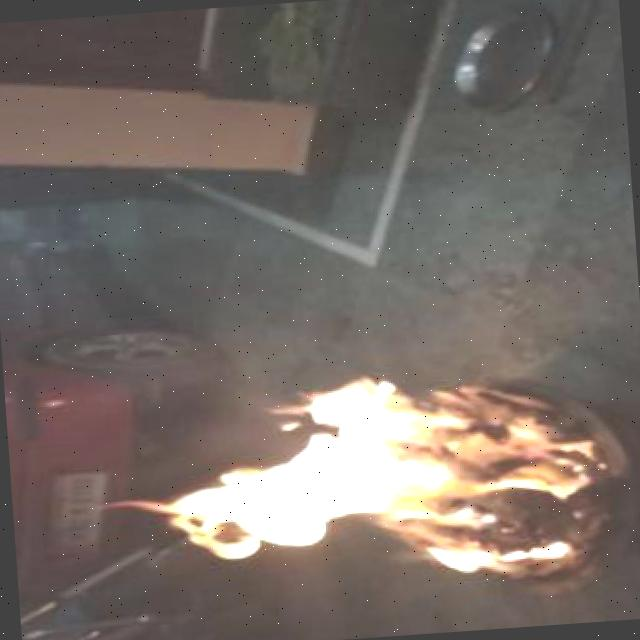fire: (98, 367, 578, 594)
